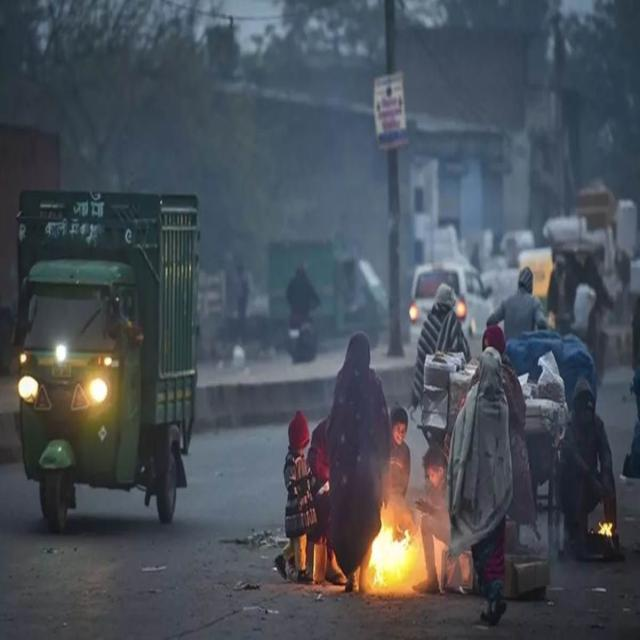fire: (368, 511, 419, 586)
